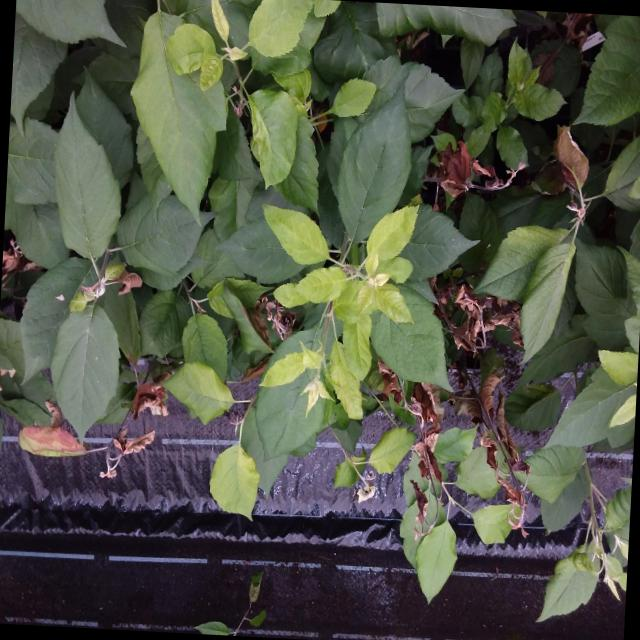-FireBlight-: (451, 368, 534, 537), (373, 360, 450, 534), (431, 271, 524, 358), (430, 146, 531, 197), (19, 393, 88, 456), (555, 121, 592, 227), (249, 294, 299, 349), (108, 424, 157, 459), (133, 370, 167, 420)
